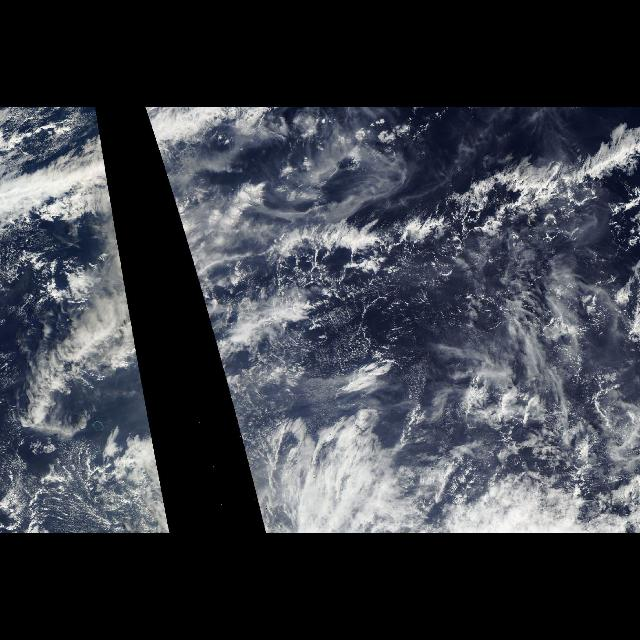Fish: (236, 117, 632, 330)
